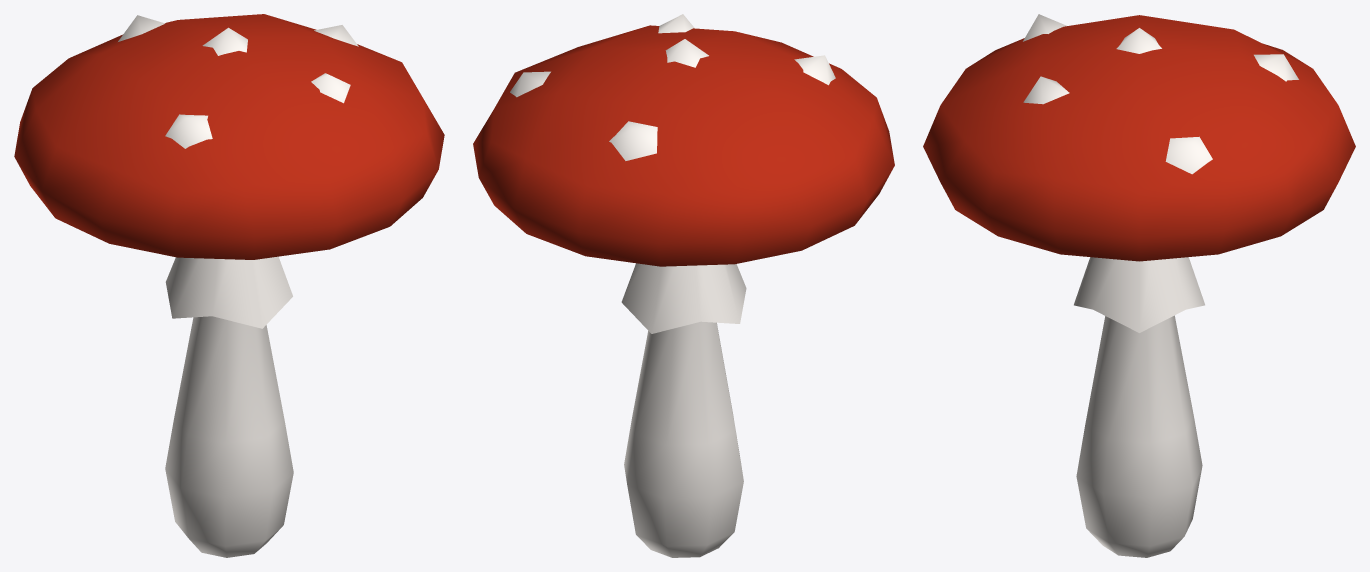
The model's file is Fly_Agaric_Basic.fbx.
3 views of the same model, side by side, from view 1: azimuth 30°, elevation 25°; view 2: azimuth 150°, elevation 25°; view 3: azimuth 270°, elevation 25° (orthographic).
Visible parts, largest first — view 1: Fly_Agaric_Basic; view 2: Fly_Agaric_Basic; view 3: Fly_Agaric_Basic.
Part boxes in pixels (<box>): Fly_Agaric_Basic: <box>14,14,444,557</box>; Fly_Agaric_Basic: <box>473,14,894,557</box>; Fly_Agaric_Basic: <box>923,14,1355,557</box>.
Bounding box in the file's own units: 29.22 × 38.29 × 29.22.
Materials: 1 (1 with a texture image).
